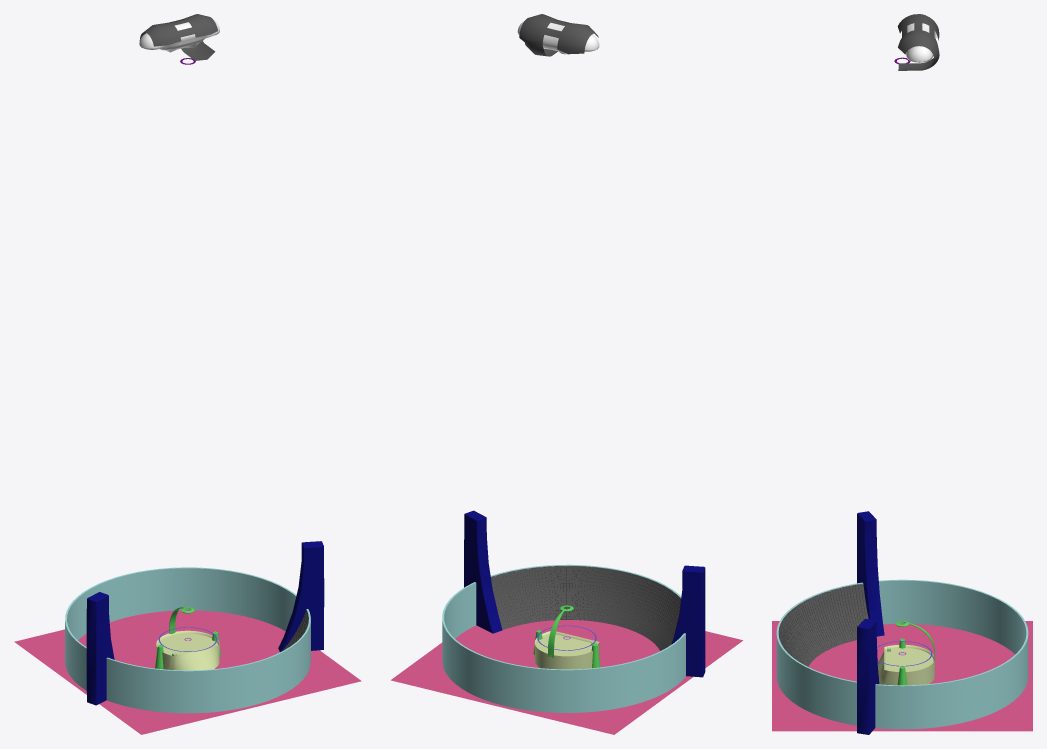
Rendered from world_2015-12-29.obj.
3 renders of one model, left to right at view 1: azimuth 30°, elevation 25°; view 2: azimuth 150°, elevation 25°; view 3: azimuth 270°, elevation 25°, orthographic. The views are drawn at different scales.
Visible parts, largest first — view 1: WALL, GROUND, Audience_tower_east, Audience_tower_east001, Playable_ground, Airship_paneling_1, Airship_body; view 2: WALL, Audience, GROUND, Audience_lattice, Audience_tower_east, Audience_tower_east001, Airship_paneling_1, Playable_ground; view 3: WALL, GROUND, Audience, Audience_lattice, Audience_tower_east, Audience_tower_east001, Playable_ground, Airship_paneling_1, Airship_body.
Boxes of the visible parts, <box> form: WALL: <box>65,567,310,713</box>; GROUND: <box>14,610,361,734</box>; Audience_tower_east: <box>278,541,324,651</box>; Audience_tower_east001: <box>86,592,114,705</box>; Playable_ground: <box>156,630,219,670</box>; Airship_paneling_1: <box>139,14,217,60</box>; Airship_body: <box>139,20,219,52</box>; WALL: <box>442,564,685,712</box>; Audience: <box>491,566,680,650</box>; GROUND: <box>391,620,742,734</box>; Audience_lattice: <box>491,566,680,650</box>; Audience_tower_east: <box>464,510,502,633</box>; Audience_tower_east001: <box>671,565,705,677</box>; Airship_paneling_1: <box>519,14,598,56</box>; Playable_ground: <box>534,631,599,669</box>; WALL: <box>776,579,1028,729</box>; GROUND: <box>772,621,1032,731</box>; Audience: <box>779,584,868,666</box>; Audience_lattice: <box>778,583,868,666</box>; Audience_tower_east: <box>857,618,879,734</box>; Audience_tower_east001: <box>857,511,884,636</box>; Playable_ground: <box>877,645,934,685</box>; Airship_paneling_1: <box>897,14,939,70</box>; Airship_body: <box>905,23,936,62</box>.
Size of the model in its own units: 2136 by 5507 by 2000.
